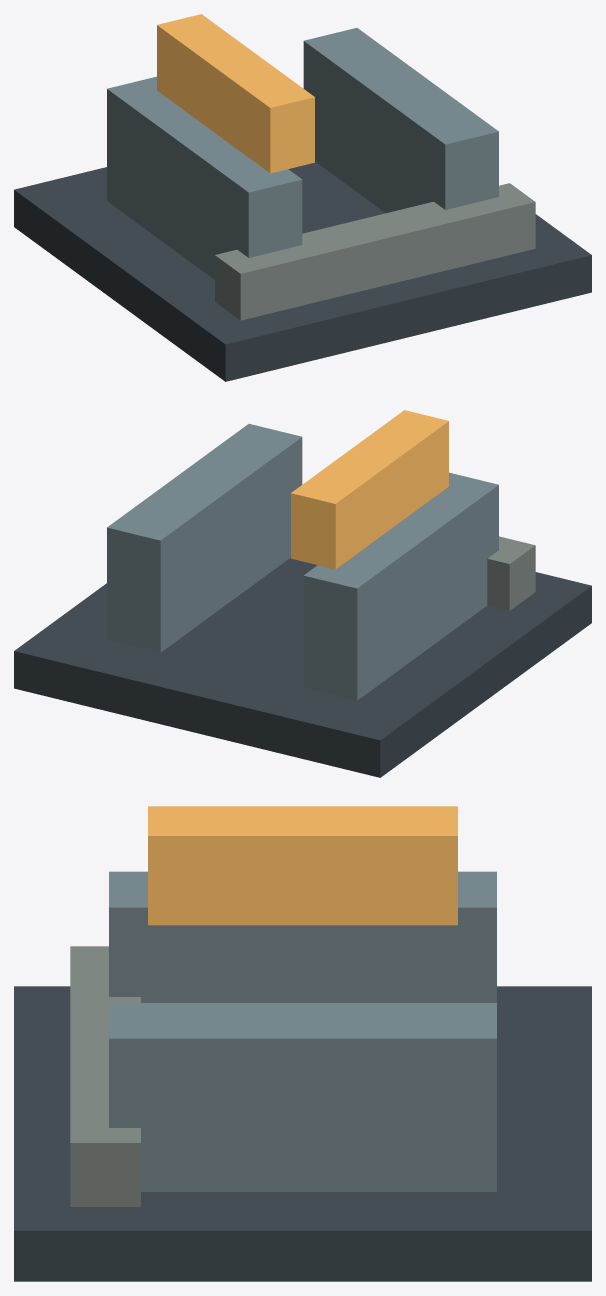
Rendered from Narrative-silence_reliquary.glb.
3 views of the same model, one above another, from view 1: azimuth 30°, elevation 25°; view 2: azimuth 150°, elevation 25°; view 3: azimuth 270°, elevation 25° (orthographic). The views are drawn at different scales.
Visible parts, largest first — view 1: Base, BusBar.001, BusBar, IsolationHousing, DisconnectedBlade; view 2: Base, BusBar.001, BusBar, DisconnectedBlade, IsolationHousing; view 3: Base, BusBar.001, DisconnectedBlade, BusBar, IsolationHousing.
Boxes of the visible parts, box(x1,y1,x2,y2) form: Base: box(14, 161, 591, 381); BusBar.001: box(303, 28, 498, 213); BusBar: box(107, 76, 302, 279); IsolationHousing: box(215, 183, 535, 320); DisconnectedBlade: box(157, 14, 314, 173); Base: box(14, 557, 591, 777); BusBar.001: box(107, 424, 302, 652); BusBar: box(303, 472, 498, 700); DisconnectedBlade: box(291, 410, 448, 569); IsolationHousing: box(487, 536, 535, 610); Base: box(14, 986, 591, 1281); BusBar.001: box(109, 1003, 496, 1191); DisconnectedBlade: box(148, 806, 457, 925); BusBar: box(109, 871, 496, 1002); IsolationHousing: box(70, 946, 140, 1206).
Bounding box in the file's own units: 1.64 × 0.92 × 1.64.
